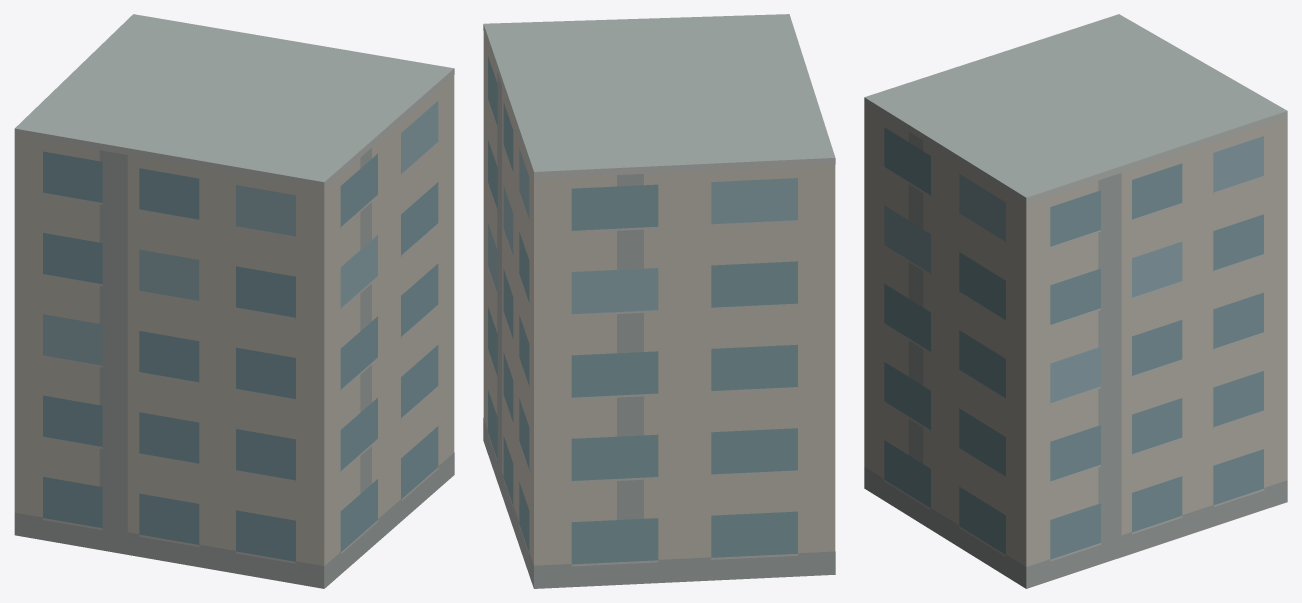
Rendered from survey-upis-32799176.glb.
3 views of the same model, side by side, from view 1: azimuth 30°, elevation 25°; view 2: azimuth 150°, elevation 25°; view 3: azimuth 270°, elevation 25° (orthographic). The views are drawn at different scales.
Parts seen in each view (by area): view 1: survey-upis-32799176.tmp; view 2: survey-upis-32799176.tmp; view 3: survey-upis-32799176.tmp.
Part boxes in pixels (<box>): survey-upis-32799176.tmp: <box>14,14,454,588</box>; survey-upis-32799176.tmp: <box>483,14,835,588</box>; survey-upis-32799176.tmp: <box>864,14,1287,588</box>.
Bounding box in the file's own units: 14.57 × 14.45 × 14.18.
